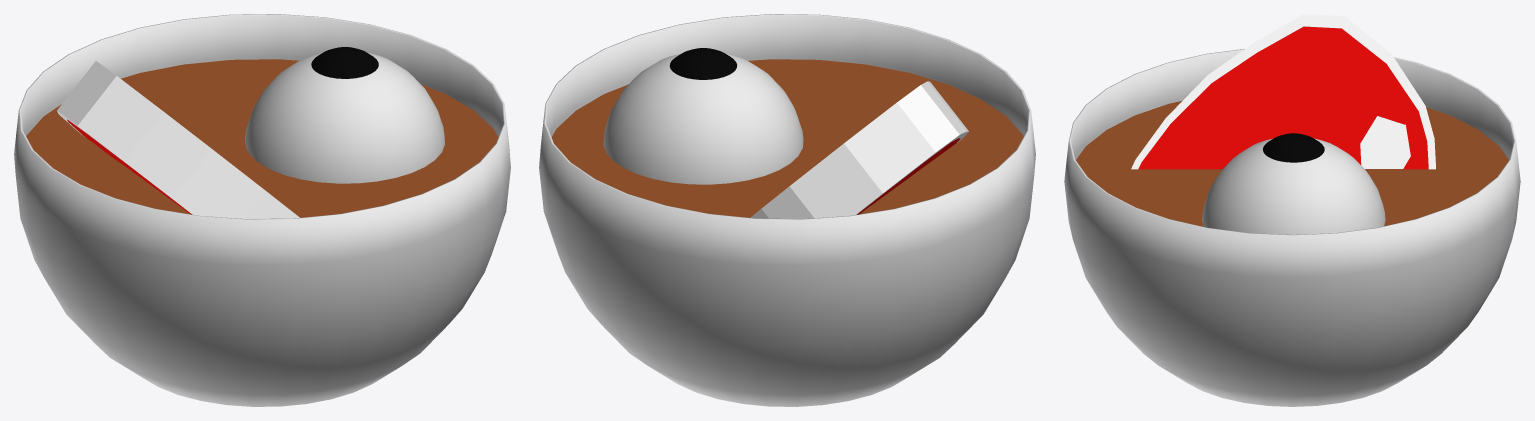
File: EyeSteakMix.fbx
The picture shows the model from 3 angles, left to right: view 1: azimuth 30°, elevation 25°; view 2: azimuth 150°, elevation 25°; view 3: azimuth 270°, elevation 25°; orthographic projection. The views are drawn at different scales.
Visible parts, largest first — view 1: TheEyeAndMeatMix; view 2: TheEyeAndMeatMix; view 3: TheEyeAndMeatMix.
Boxes of the visible parts, x1,y1,x2,y2 form: TheEyeAndMeatMix: [14, 14, 510, 406]; TheEyeAndMeatMix: [539, 14, 1035, 406]; TheEyeAndMeatMix: [1064, 14, 1520, 406].
Size of the model in its own units: 124 by 83.01 by 124.
